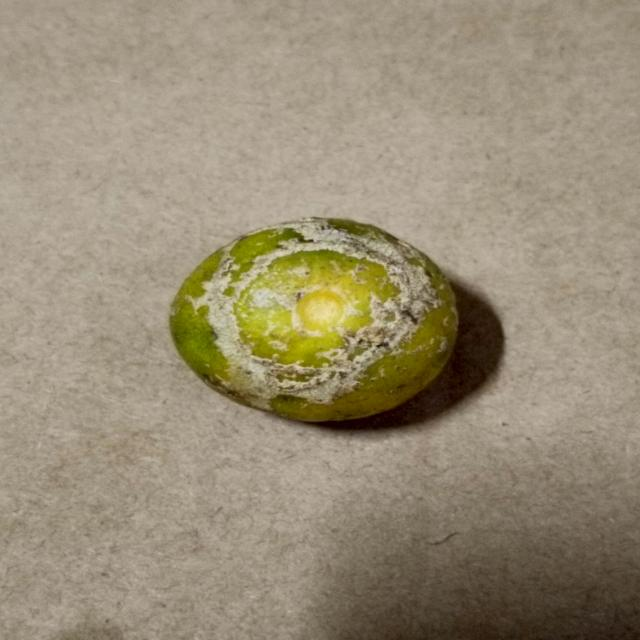thrips: (175, 216, 466, 428)
